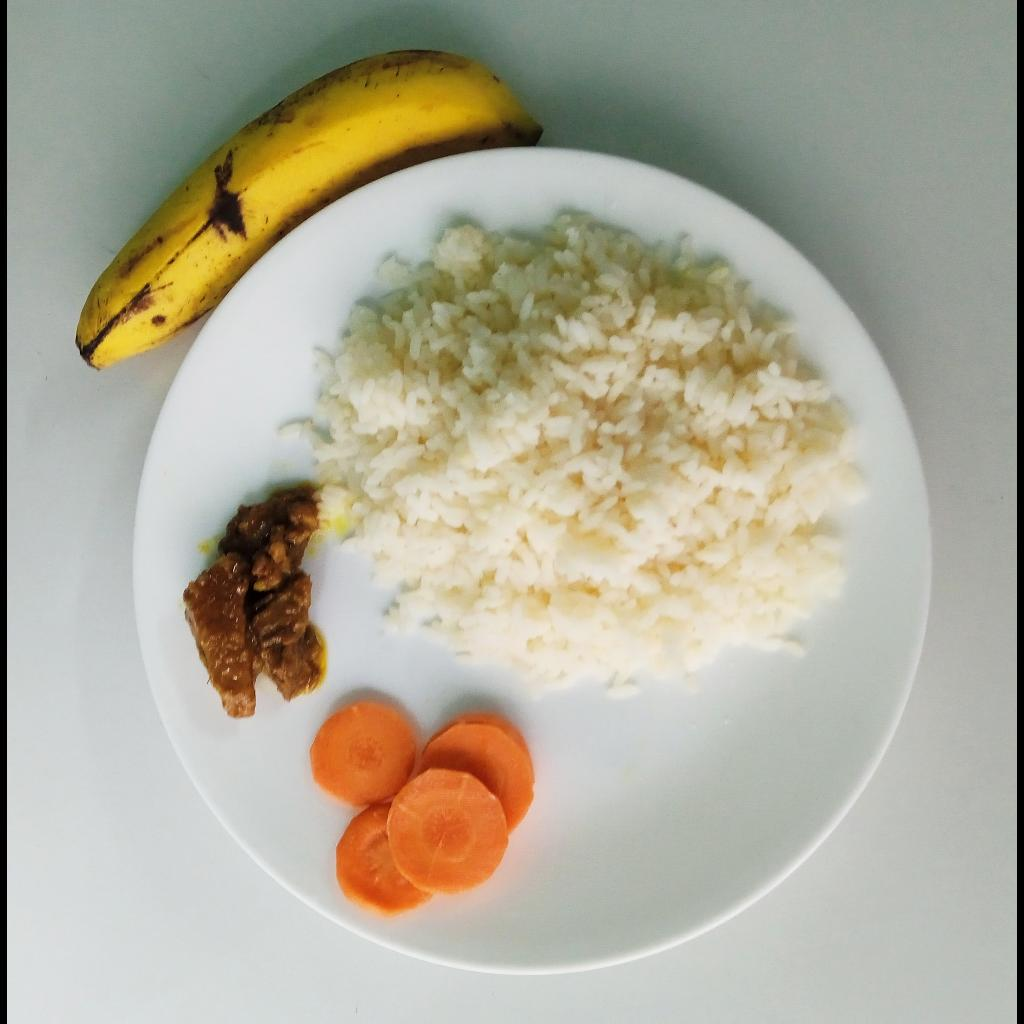banana: (72, 50, 542, 373)
beef: (181, 486, 326, 718)
carrot: (312, 699, 542, 916)
rice: (280, 212, 867, 699)
